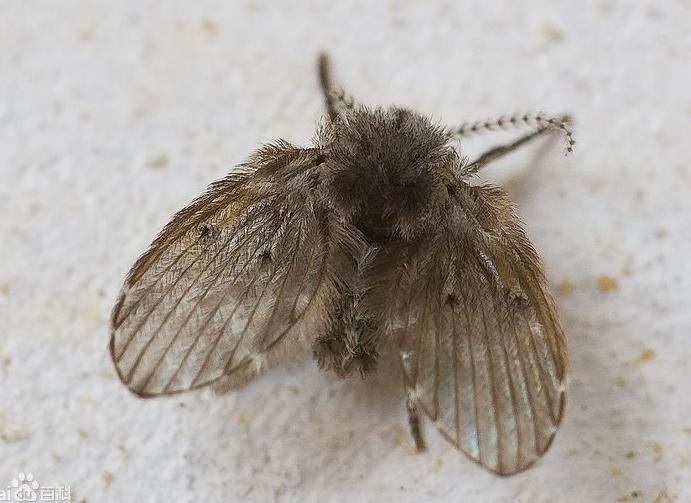feie: (112, 101, 586, 470)
